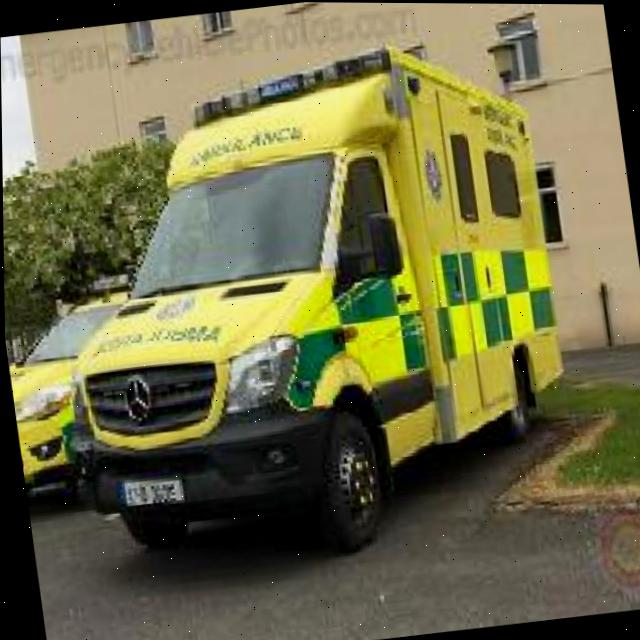emergency: (17, 24, 588, 586)
